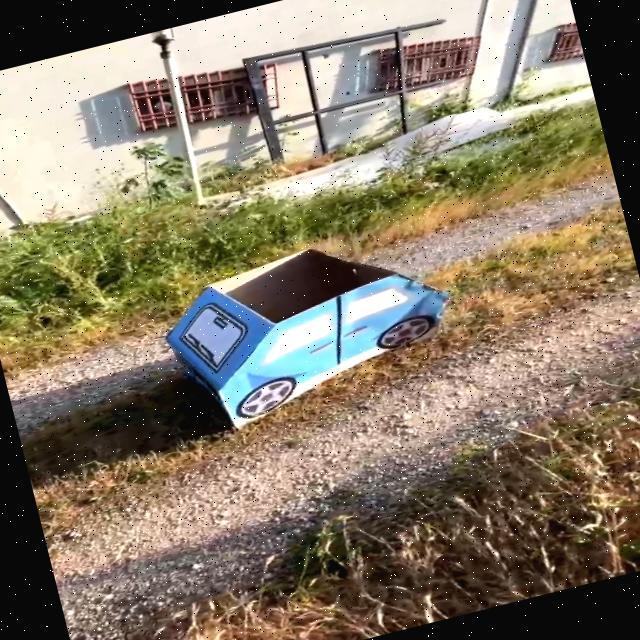blue_car: (95, 179, 548, 474)
